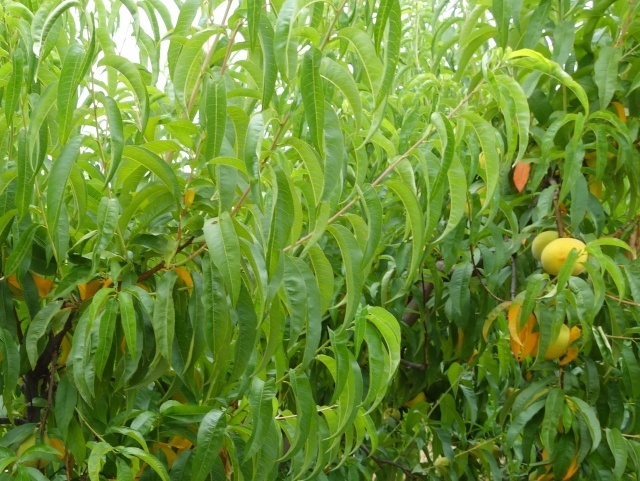peach: (541, 236, 592, 278), (528, 221, 569, 260)
